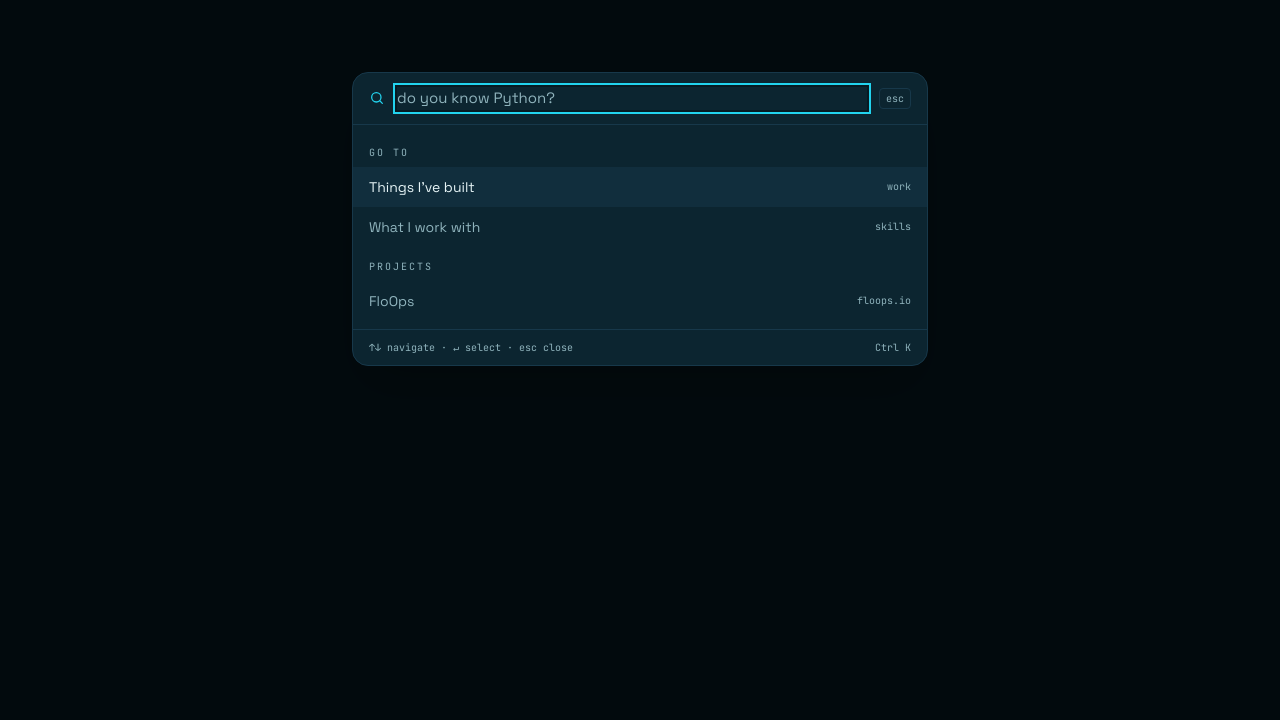
Test case: CommandPalette › does not hijack a question that happens to mention a command
Type "do you know sudo?" into the dropdown.
click(632, 98); type("do you know sudo?")  # box [397, 87, 867, 110]
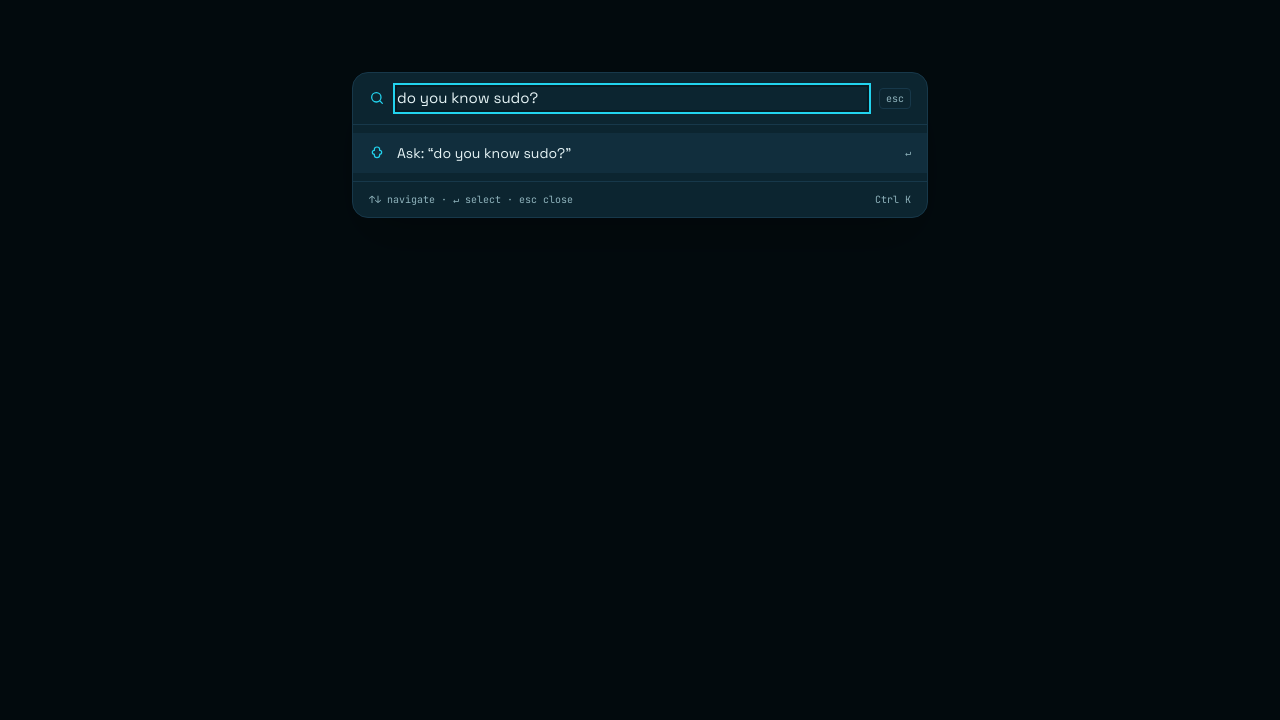
Result: the option "Ask: “do you know sudo?” ↵" is shown at [353, 132, 927, 172]
